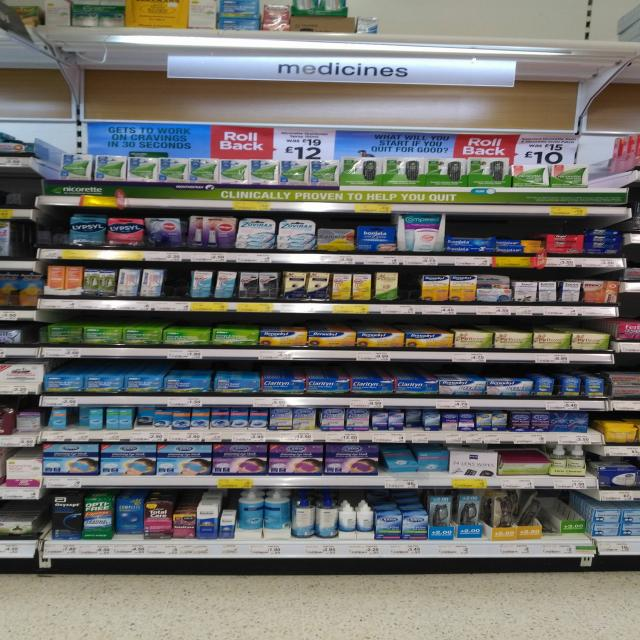100- O.O.S: (164, 266, 190, 310), (398, 270, 419, 313), (44, 218, 66, 258)
